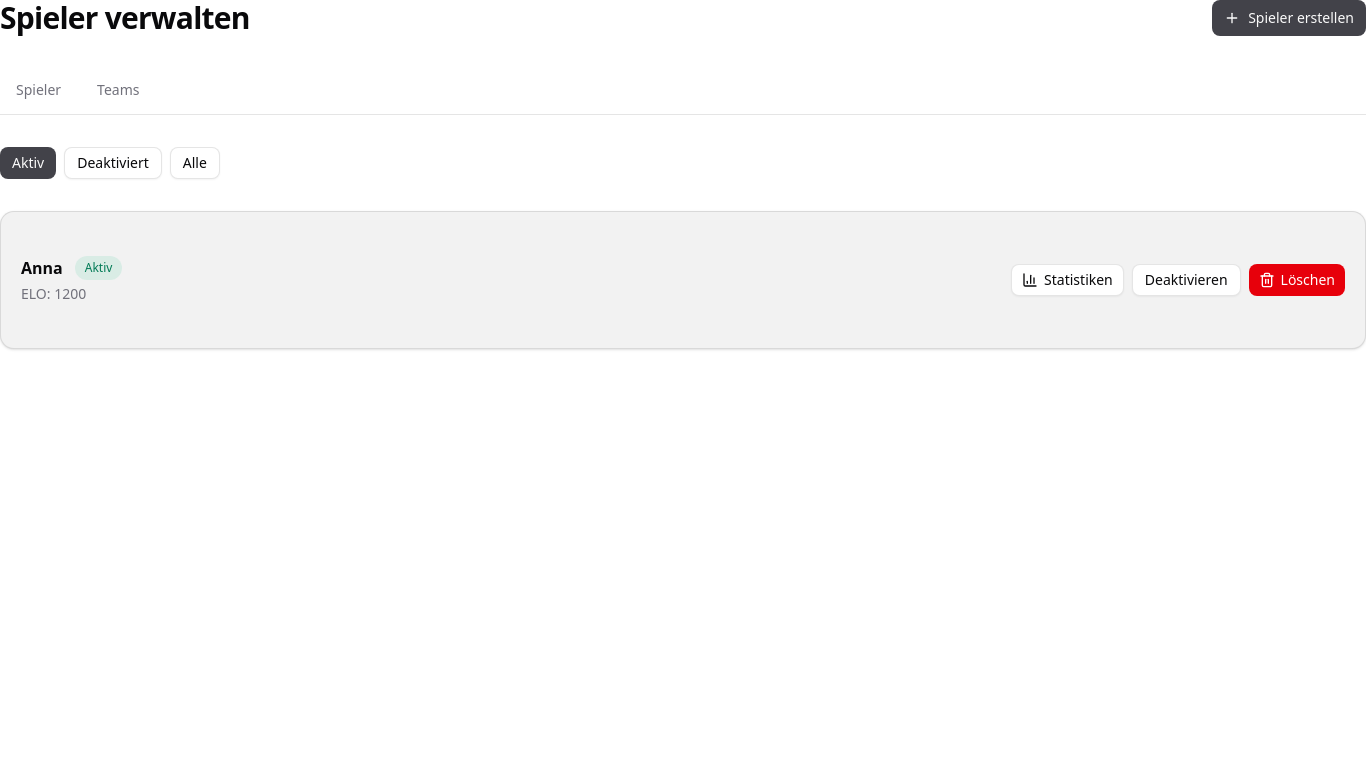
Test: PlayersPage mutations › announces delete failures inside the active confirmation dialog
Expected: the heading "Anna" is shown, x1=21 y1=256 x2=63 y2=280
Click the button "Löschen" at (1297, 280), box x1=1249 y1=264 x2=1345 y2=296
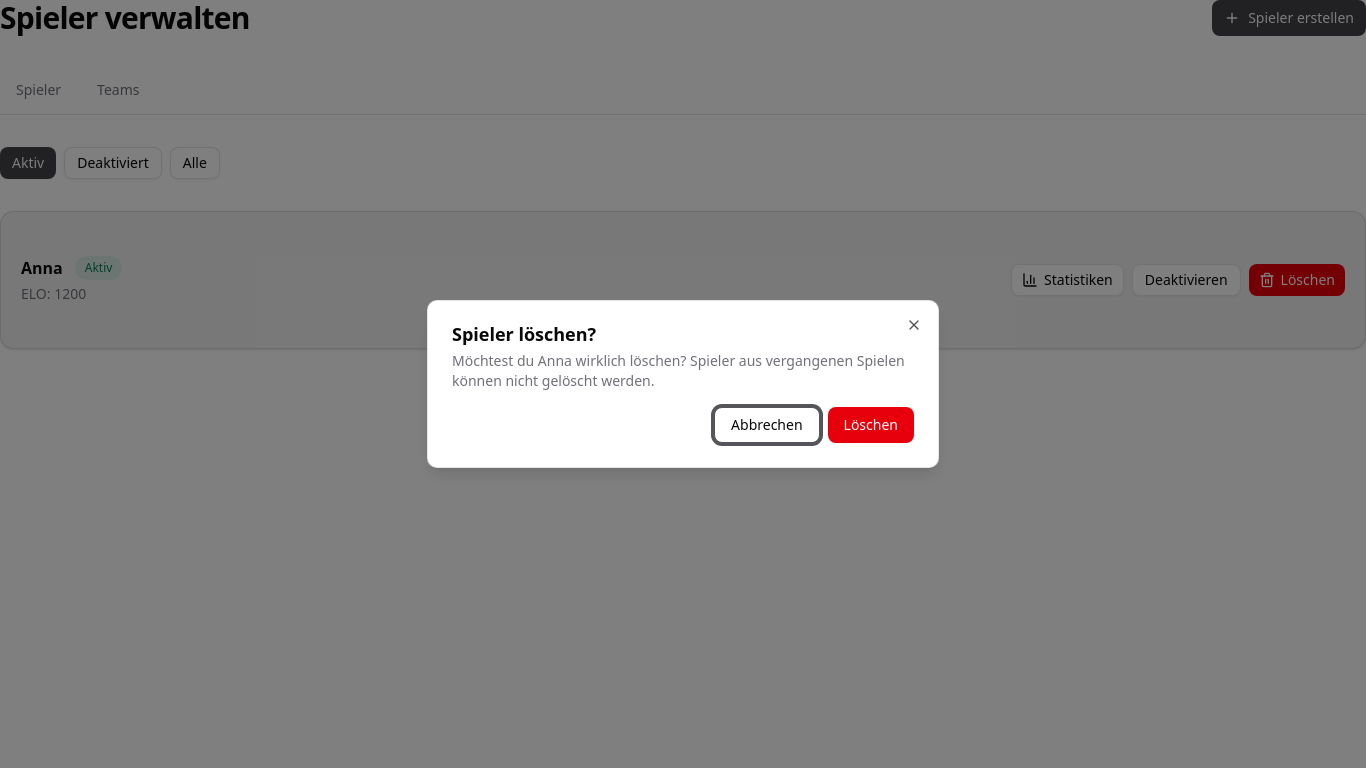
Click the button "Löschen" at (871, 425), box x1=828 y1=407 x2=914 y2=443
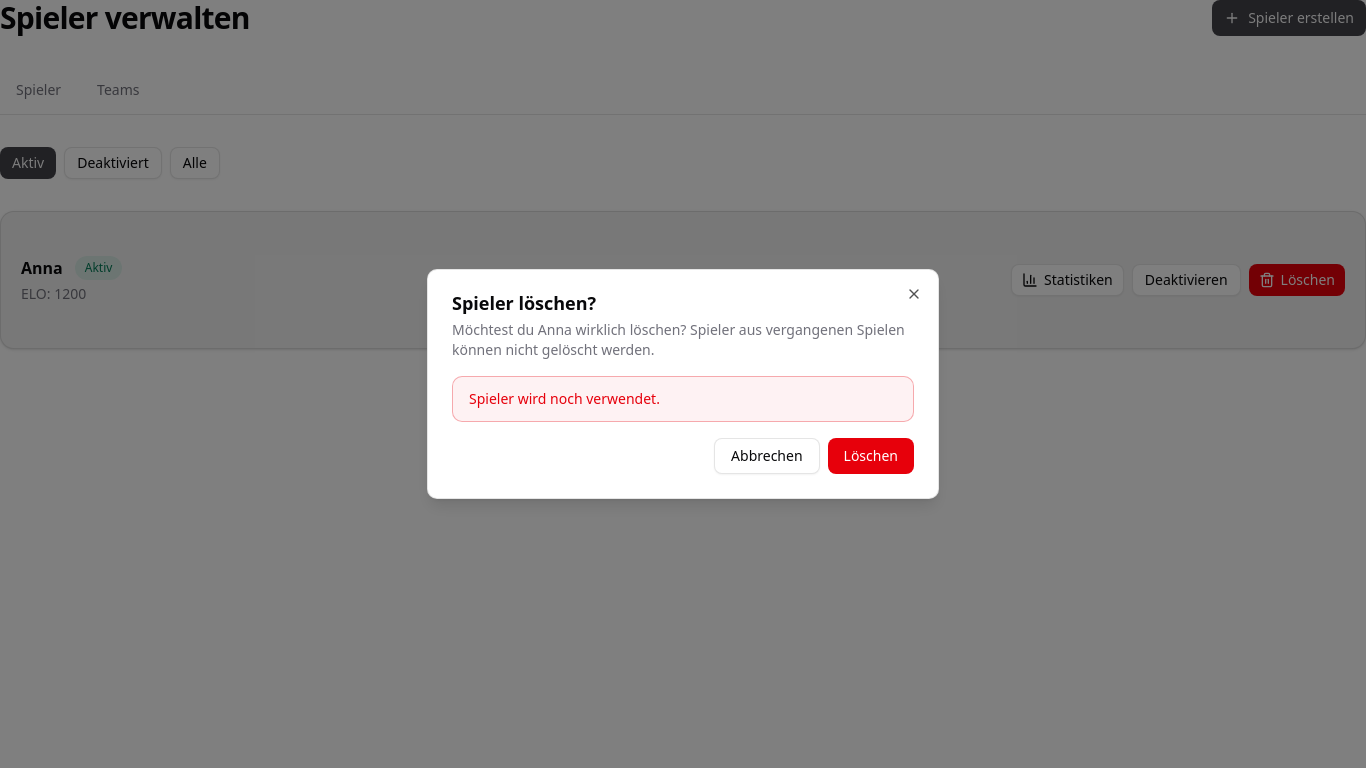
Now the message reads "Spieler wird noch verwendet.", box x1=469 y1=389 x2=660 y2=408
